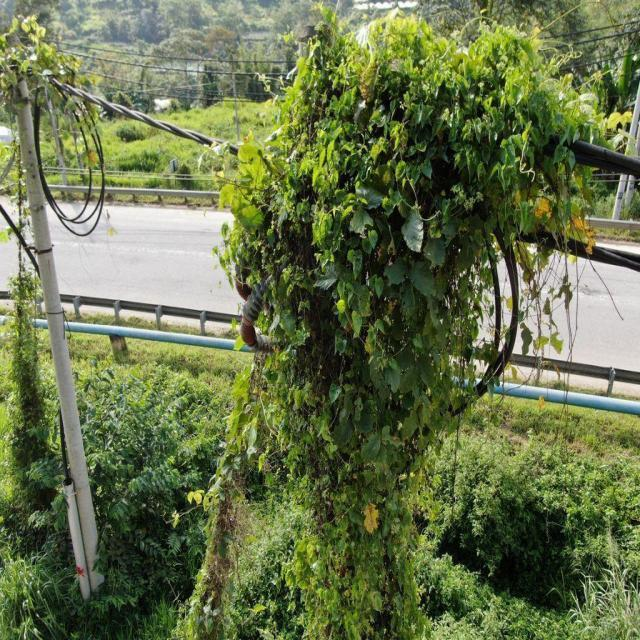critical vegetation: (183, 8, 590, 636)
